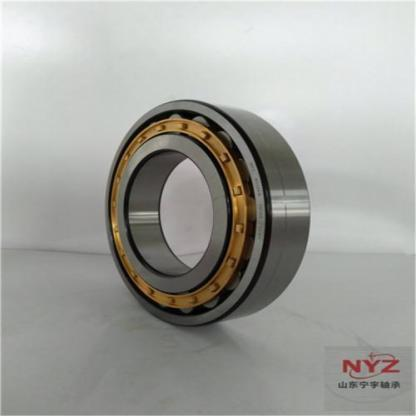FOD: (94, 93, 316, 331)
